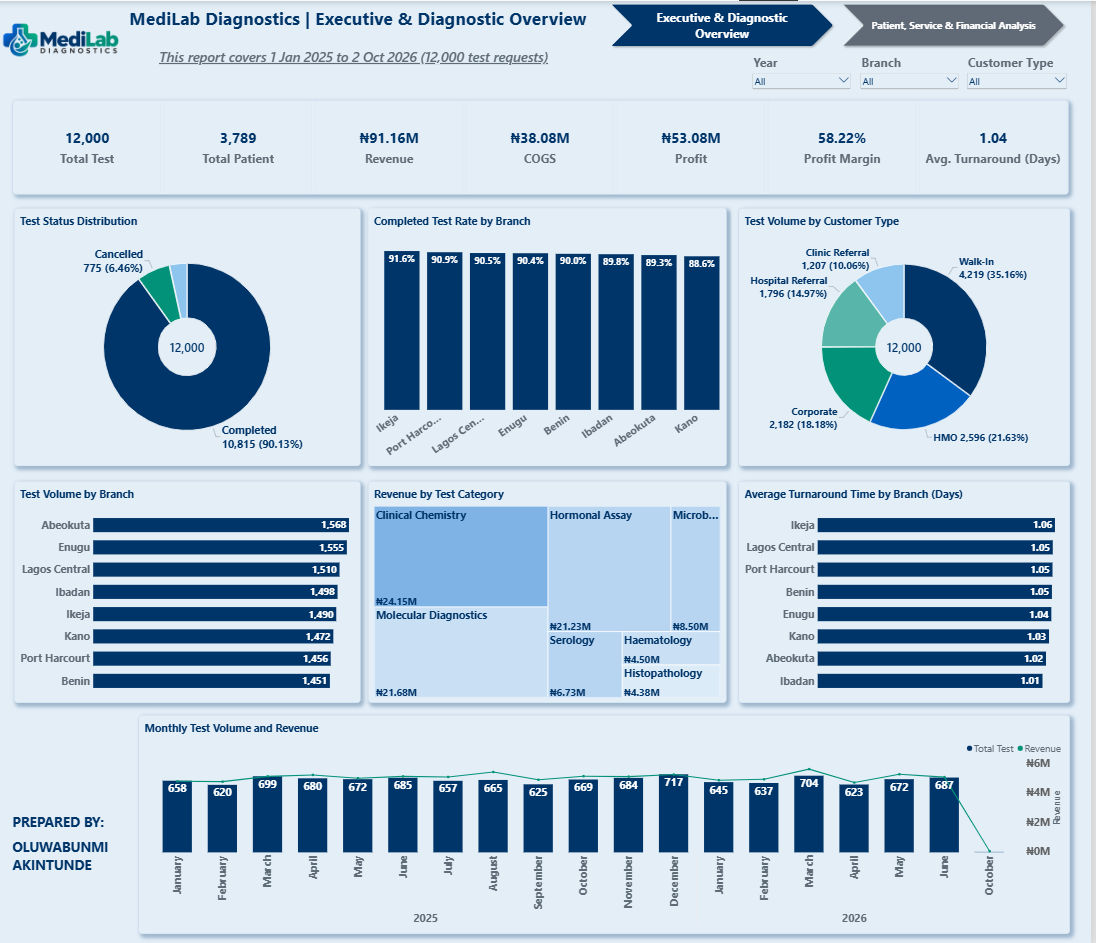

The dashboard page shown, as its layout file describes it:
{"tool":"powerbi","page":{"name":"Executive & Diagnostic Overview","canvas":[3000,2600],"ordinal":0},"visuals":[{"type":"cardVisual","fields":{"Data":["Calculated KPIs.Total Test","Calculated KPIs.Total Patient","Calculated KPIs.Revenue","Calculated KPIs.COGS","Calculated KPIs.Total Profit","Calculated KPIs.Profit Margin","Calculated KPIs.Average Turnaround Time"]},"box":[37.1,272.1,2902.4,259.7],"z":0},{"type":"lineClusteredColumnComboChart","title":"Monthly Test Volume and Revenue","fields":{"Category":["DimCalendar.Date.Variation.Date Hierarchy.Year","DimCalendar.Date.Variation.Date Hierarchy.Month"],"Y":["Calculated KPIs.Total Test"],"Y2":["Calculated KPIs.Revenue"]},"box":[383.4,1962.4,2560.2,601.9],"z":1000},{"type":"clusteredBarChart","title":"Test Volume by Branch","fields":{"Category":["DimBranch.Branch Name"],"Y":["Calculated KPIs.Total Test"]},"box":[41.2,1319.3,952.3,610.2],"z":2000},{"type":"treemap","fields":{"Group":["DimTest.Test Category"],"Values":["Calculated KPIs.Revenue"]},"box":[1014.2,1319.3,985.3,610.2],"z":3000},{"type":"donutChart","title":"Test Status Distribution","fields":{"Category":["FactTestRequest.Test Status"],"Y":["Calculated KPIs.Total Test"]},"box":[41.2,568.9,952.3,709.1],"z":4000},{"type":"clusteredBarChart","title":"Average Turnaround Time by Branch (Days)","fields":{"Category":["DimBranch.Branch Name"],"Y":["Calculated KPIs.Average Turnaround Time"]},"box":[2032.5,1319.3,911.1,610.2],"z":5000},{"type":"donutChart","title":"Test Volume by Customer Type","fields":{"Category":["FactTestRequest.Customer Type"],"Y":["Calculated KPIs.Total Test"]},"box":[2032.5,568.9,911.1,709.1],"z":6000},{"type":"pageNavigator","box":[1674.8,0,1265.8,133.5],"z":7000},{"type":"slicer","fields":{"Values":["DimCalendar.Year"]},"box":[2066.6,133.5,279.9,137.8],"z":8000},{"type":"slicer","fields":{"Values":["FactTestRequest.Customer Type"]},"box":[2656.5,133.5,284.2,137.8],"z":9000},{"type":"textbox","box":[340.1,0,1304.6,146.4],"z":10000},{"type":"image","box":[0,0,340.1,211],"z":11000},{"type":"cardVisual","fields":{"Data":["Calculated KPIs.Report Period"]},"box":[340.1,94.7,1265.8,116.2],"z":12000},{"type":"clusteredColumnChart","title":"Completed Test Rate by Branch","fields":{"Category":["DimBranch.Branch Name"],"Y":["Calculated KPIs.Completed Test Rate"]},"box":[1014.2,568.9,985.3,709.1],"z":13000},{"type":"textbox","box":[20.6,2197.4,301,263.9],"z":14000},{"type":"slicer","fields":{"Values":["DimBranch.Branch Name"]},"box":[2363.7,133.5,279.9,137.8],"z":15000}]}

Visuals, with their boxes in screenshot pixels (x1, y1, x2, y2), scaled from the page's 3000x2600 canvas onto the 1096x943 screenshot:
cardVisual - Calculated KPIs.Total Test x Calculated KPIs.Total Patient: (14, 99, 1074, 193)
"Monthly Test Volume and Revenue" lineClusteredColumnComboChart: (140, 712, 1075, 930)
"Test Volume by Branch" clusteredBarChart: (15, 478, 363, 700)
treemap - DimTest.Test Category x Calculated KPIs.Revenue: (371, 478, 730, 700)
"Test Status Distribution" donutChart: (15, 206, 363, 464)
"Average Turnaround Time by Branch (Days)" clusteredBarChart: (743, 478, 1075, 700)
"Test Volume by Customer Type" donutChart: (743, 206, 1075, 464)
pageNavigator: (612, 0, 1074, 48)
slicer - DimCalendar.Year: (755, 48, 857, 98)
slicer - FactTestRequest.Customer Type: (971, 48, 1074, 98)
textbox: (124, 0, 601, 53)
image: (0, 0, 124, 77)
cardVisual - Calculated KPIs.Report Period: (124, 34, 587, 76)
"Completed Test Rate by Branch" clusteredColumnChart: (371, 206, 730, 464)
textbox: (8, 797, 117, 893)
slicer - DimBranch.Branch Name: (864, 48, 966, 98)
